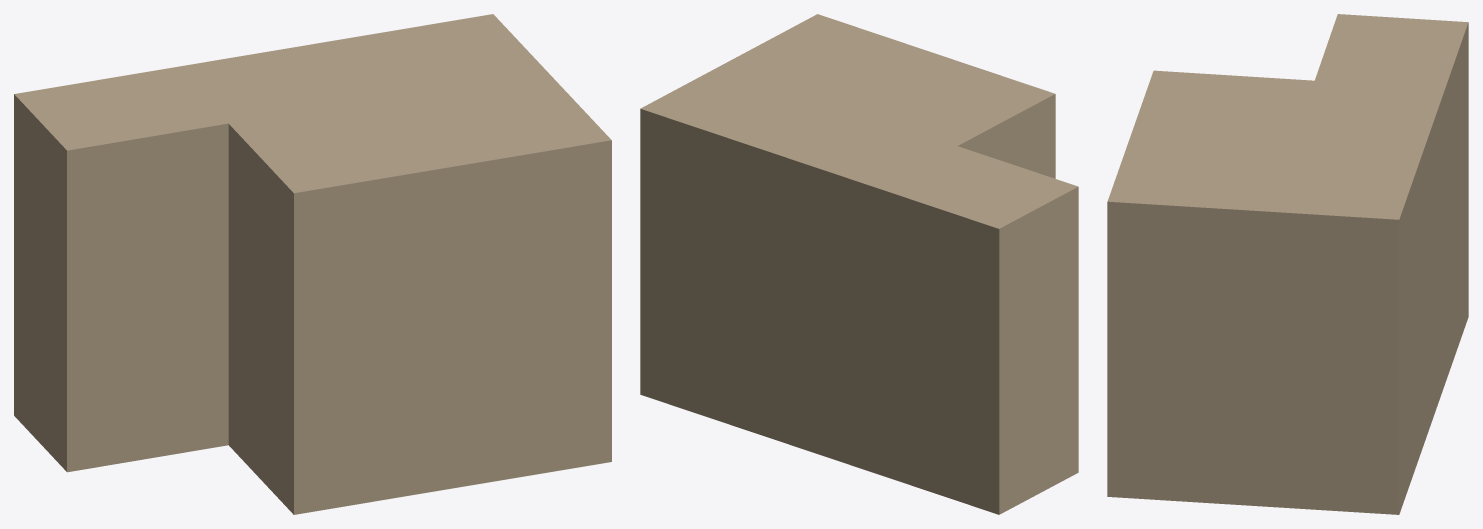
Rendered from bld_100469826.dae.
3 views of the same model, side by side, from view 1: azimuth 30°, elevation 25°; view 2: azimuth 150°, elevation 25°; view 3: azimuth 270°, elevation 25° (orthographic). The views are drawn at different scales.
Parts seen in each view (by area): view 1: bld_100469826; view 2: bld_100469826; view 3: bld_100469826.
Boxes of the visible parts, x1,y1,x2,y2 form: bld_100469826: (14,14,611,514); bld_100469826: (640,14,1078,514); bld_100469826: (1107,14,1468,514).
Size of the model in its own units: 11.96 by 8.87 by 8.
